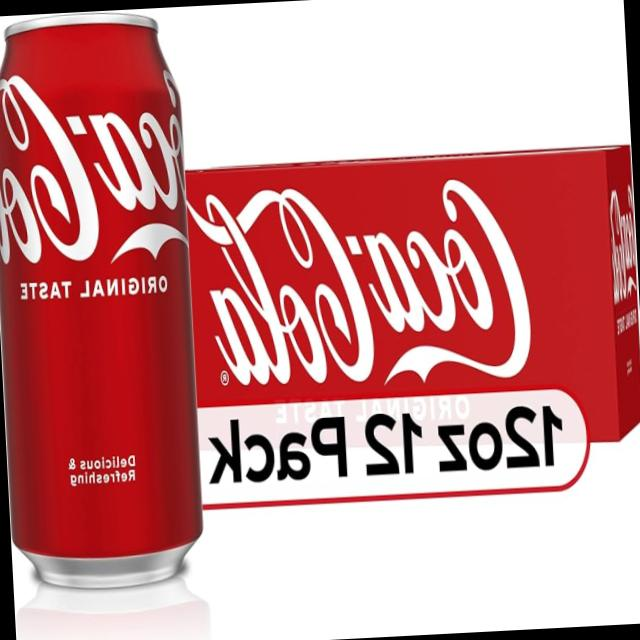cocacola: (0, 7, 209, 605)
